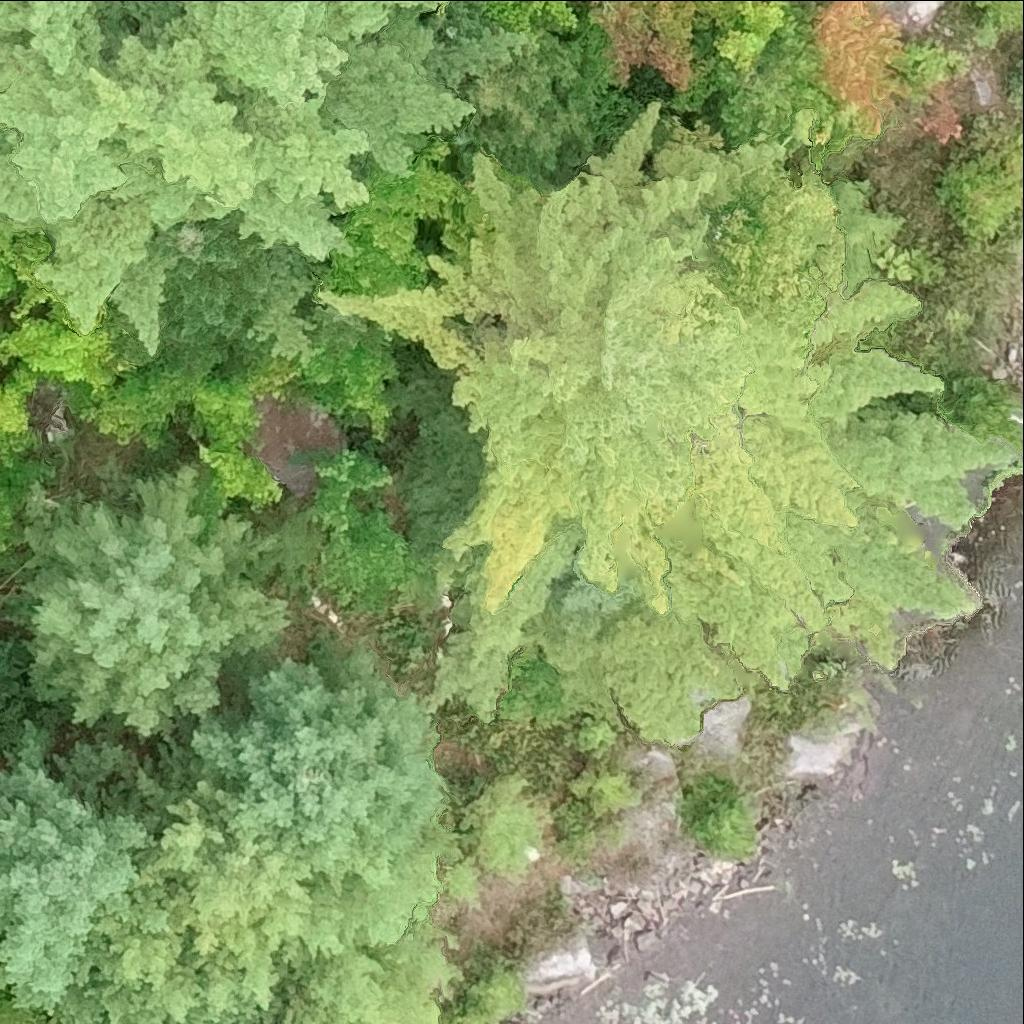crown: (321, 102, 1017, 741), (0, 0, 529, 366), (158, 618, 450, 1014), (0, 451, 291, 735), (0, 721, 257, 1023), (321, 136, 483, 298), (706, 158, 845, 333), (797, 0, 913, 141), (584, 0, 760, 91), (0, 322, 145, 409), (321, 501, 427, 614), (79, 367, 213, 446), (290, 342, 397, 439), (709, 0, 797, 79), (312, 448, 392, 533), (0, 448, 54, 550), (190, 376, 262, 452), (0, 233, 63, 316), (199, 444, 282, 505), (0, 367, 46, 465), (473, 0, 579, 39), (959, 0, 1023, 43), (244, 356, 301, 398), (0, 996, 48, 1023), (0, 793, 11, 820)
